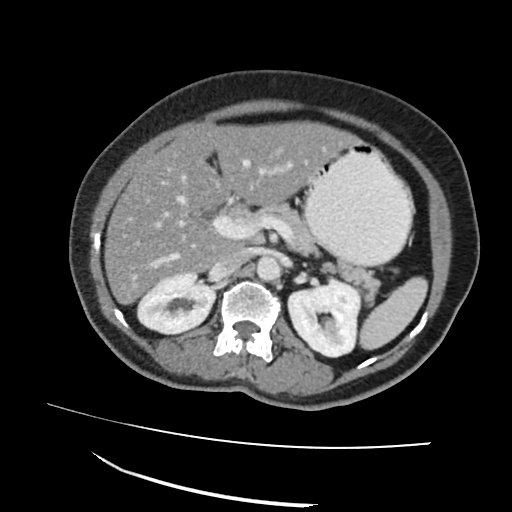aorta: (255, 254, 281, 283)
